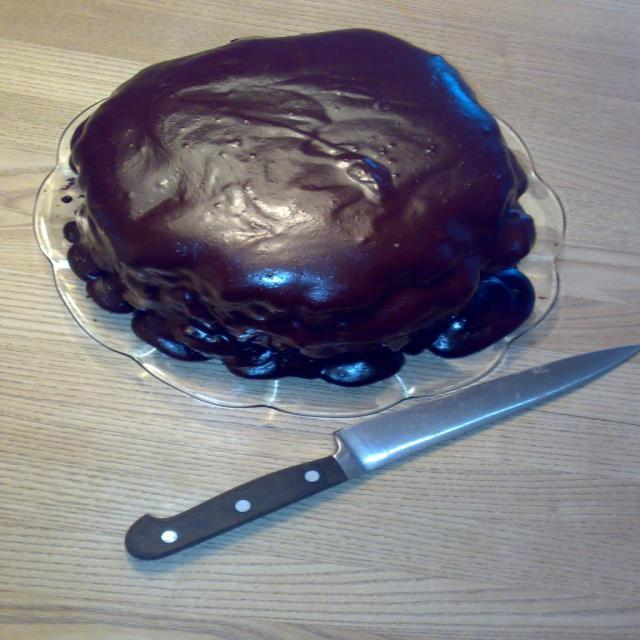Knife: (125, 346, 640, 559)
